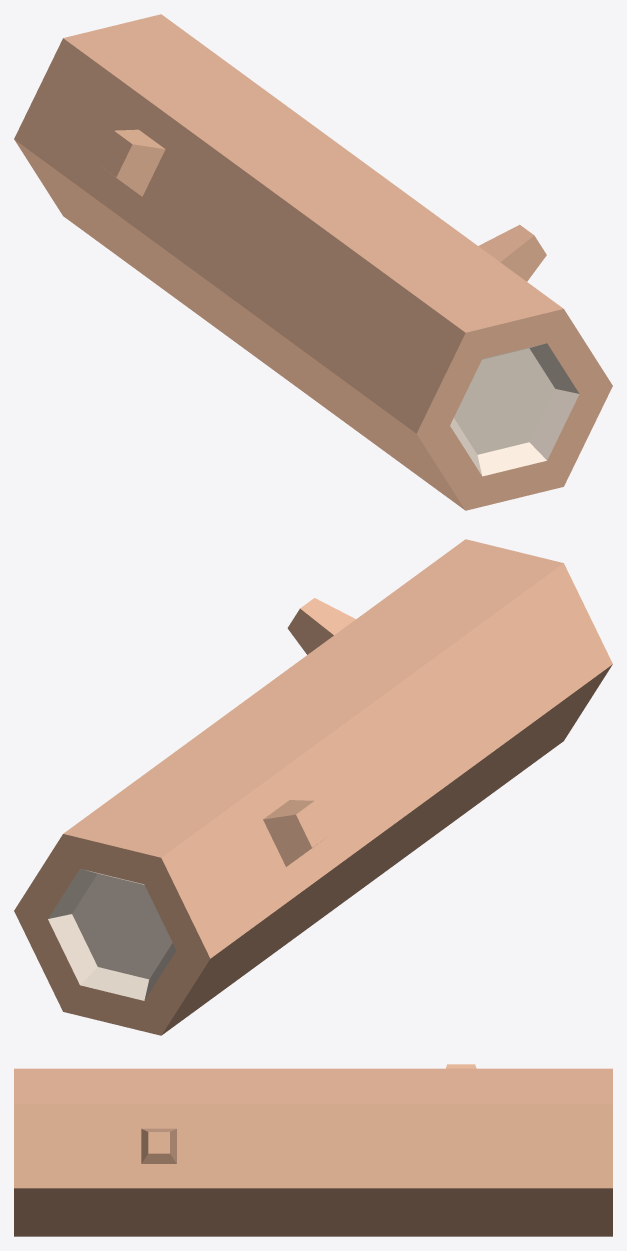
Rendered from log.glb.
The picture shows the model from 3 angles, top to bottom: view 1: azimuth 30°, elevation 25°; view 2: azimuth 150°, elevation 25°; view 3: azimuth 270°, elevation 25°; orthographic projection. The views are drawn at different scales.
Visible parts, largest first — view 1: log; view 2: log; view 3: log.
Part boxes in pixels (left/top/right/bottom): log: left=14, top=14, right=612, bottom=510; log: left=14, top=539, right=612, bottom=1035; log: left=14, top=1064, right=612, bottom=1236.
Size of the model in its own units: 0.234 by 0.1732 by 0.71.
